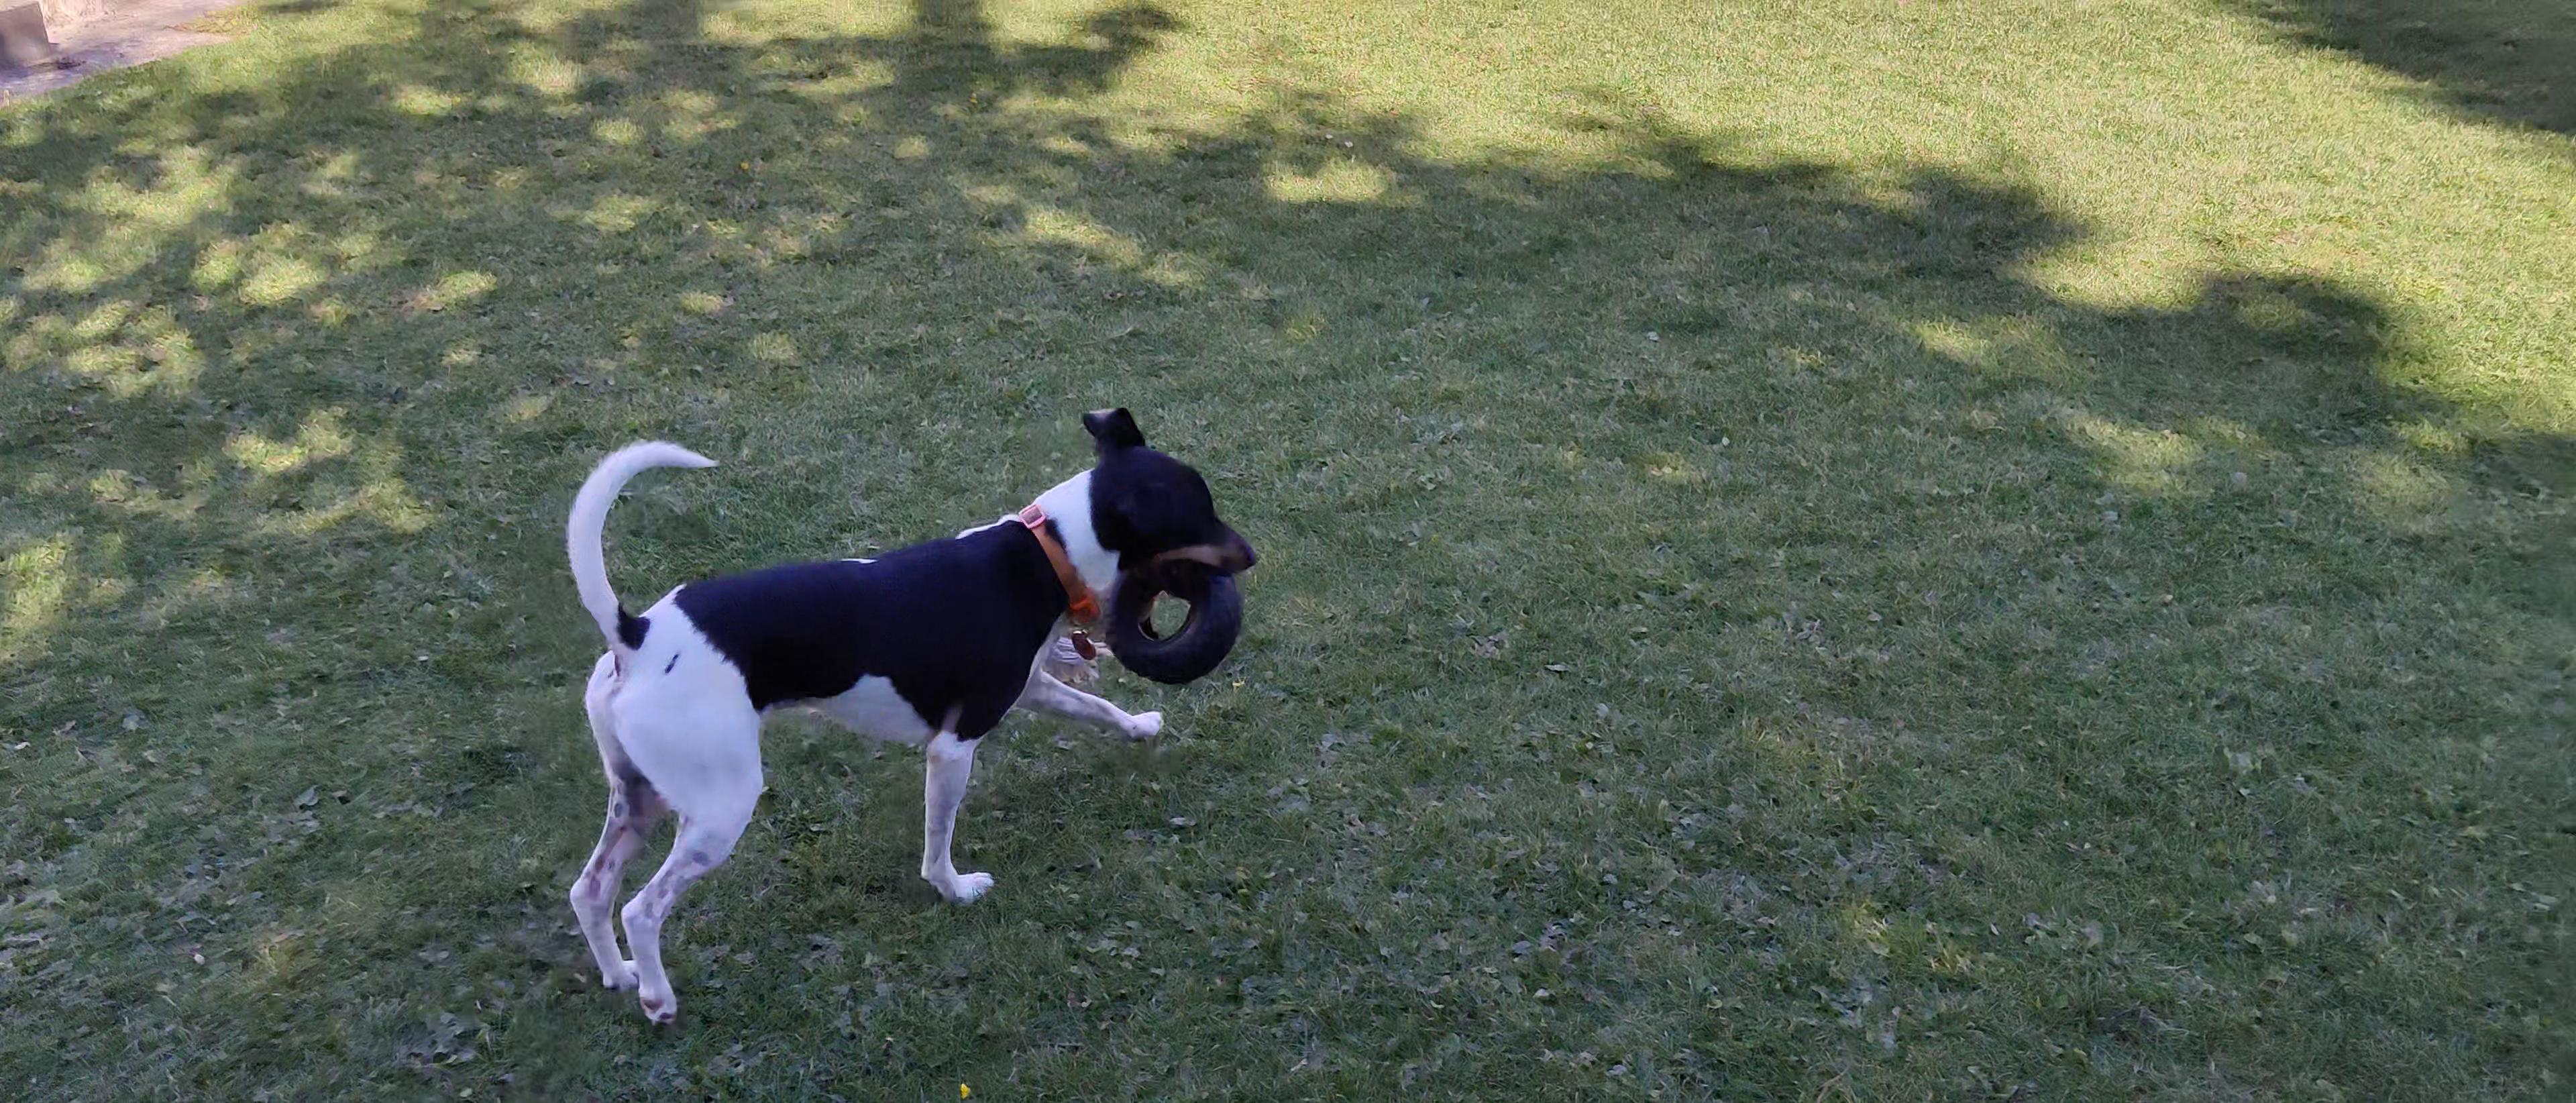Dog: (527, 396, 1270, 1037)
